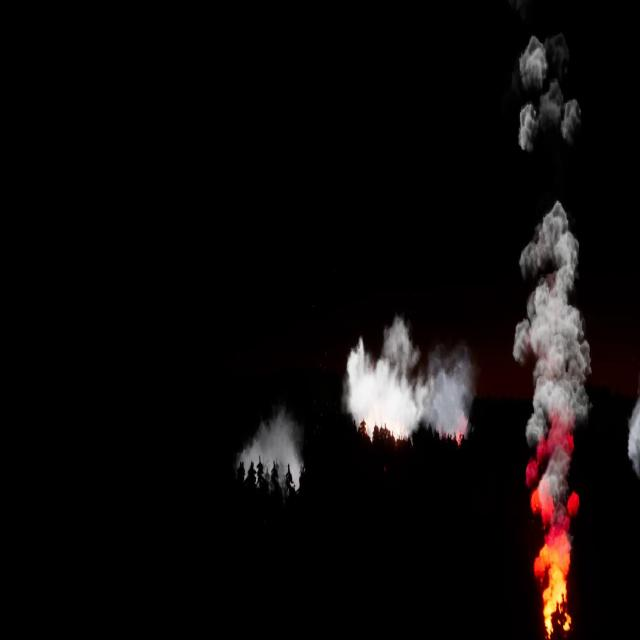fire: (237, 404, 304, 493), (537, 570, 575, 639)
smoke: (515, 38, 595, 565), (343, 308, 476, 447), (627, 401, 640, 469)
